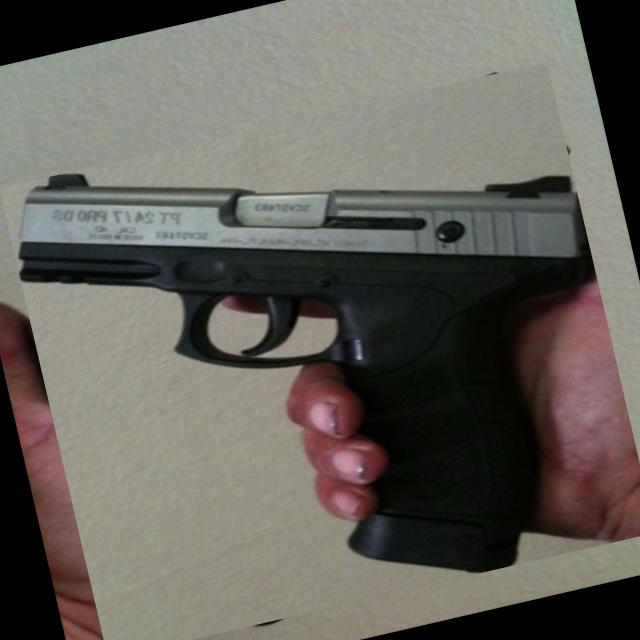Gun: (19, 173, 590, 571)
